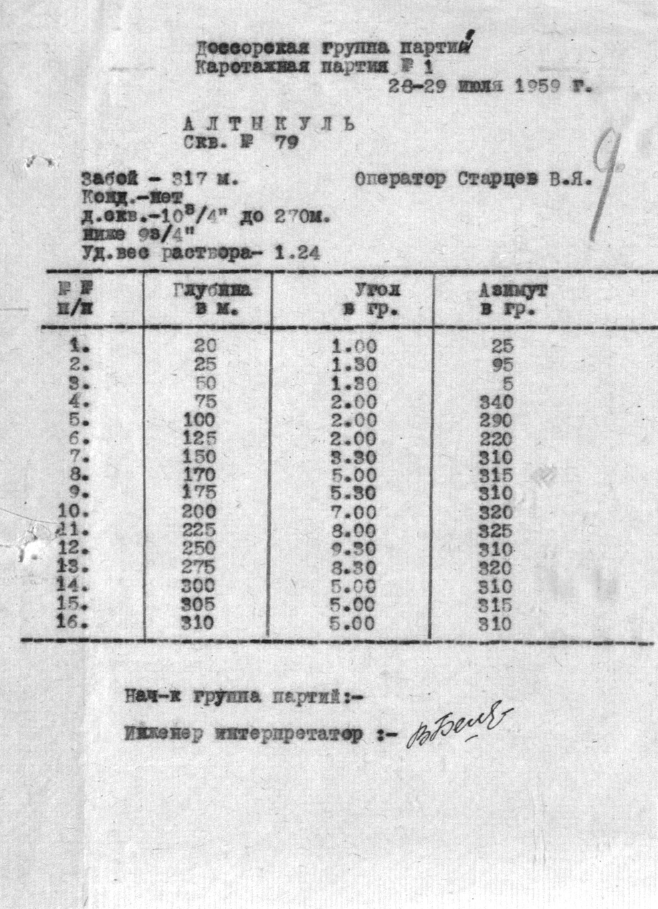Borderless: (37, 272, 655, 645)
